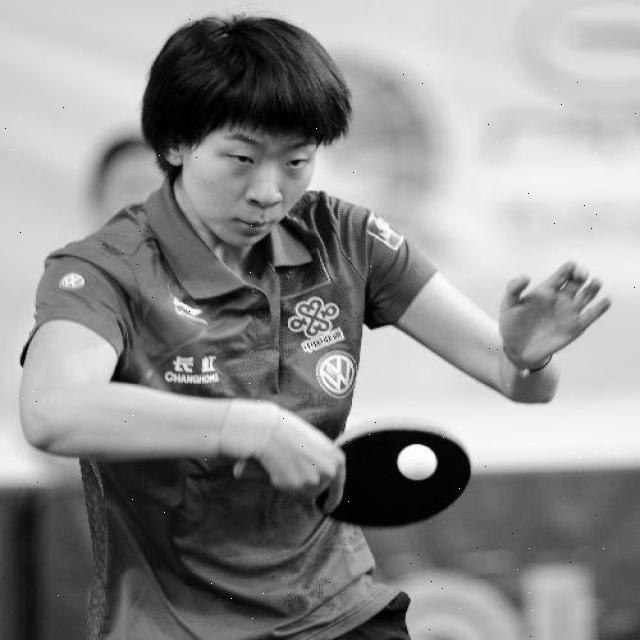ping-pong-ball: (391, 438, 442, 481)
